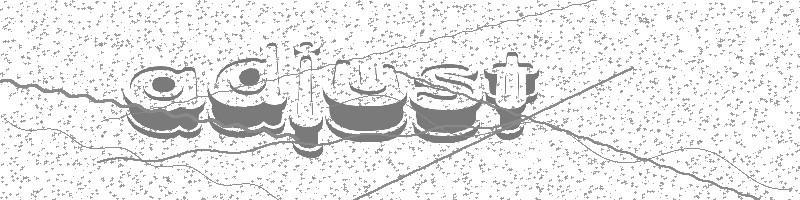a: (121, 65, 206, 140)
d: (207, 42, 289, 138)
i: (289, 41, 324, 159)
s: (409, 63, 484, 144)
t: (483, 50, 540, 141)
u: (322, 59, 409, 144)
